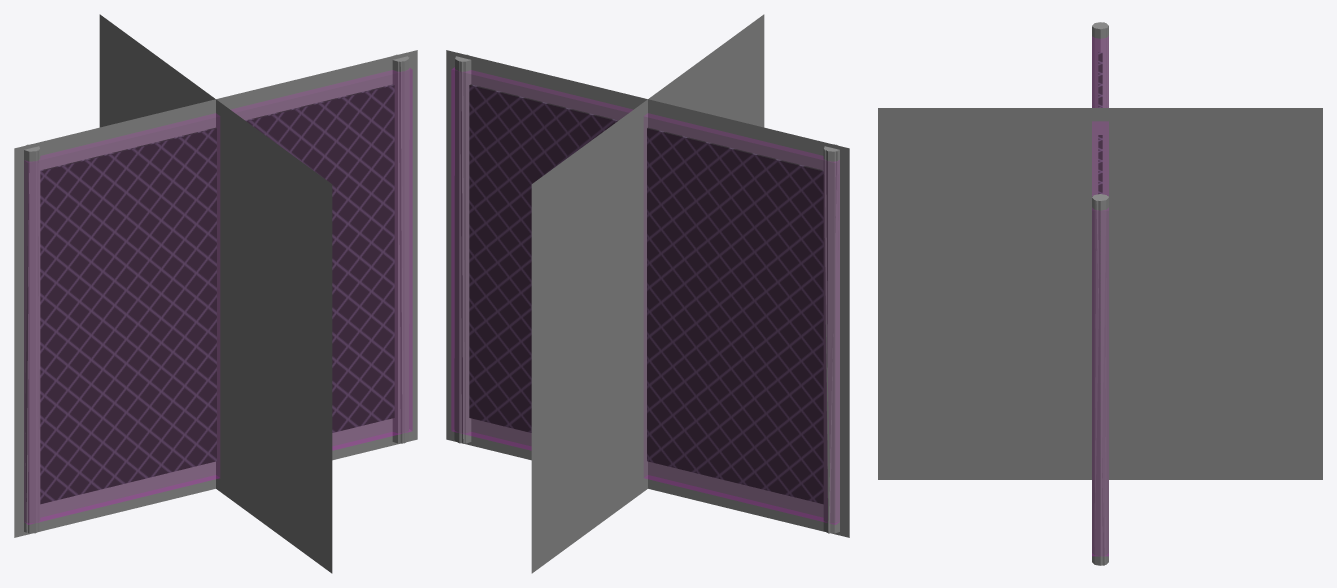
The model's file is chainlink_2m.dae.
3 renders of one model, left to right at view 1: azimuth 30°, elevation 25°; view 2: azimuth 150°, elevation 25°; view 3: azimuth 270°, elevation 25°, orthographic. The views are drawn at different scales.
Visible parts, largest first — view 1: chainlink_2m_a800, Colmesh_panel-1, chainlink_2m_a50, chainlink_2m_a200; view 2: chainlink_2m_a800, Colmesh_panel-1, chainlink_2m_a50, chainlink_2m_a200; view 3: chainlink_2m_a50, Colmesh_panel-1, chainlink_2m_a800, chainlink_2m_a200.
Part boxes in pixels (x1,y1,x2,y2): chainlink_2m_a800: (24, 54, 408, 533); Colmesh_panel-1: (24, 68, 412, 524); chainlink_2m_a50: (14, 14, 417, 573); chainlink_2m_a200: (25, 55, 409, 532); chainlink_2m_a800: (455, 54, 839, 533); Colmesh_panel-1: (451, 67, 839, 524); chainlink_2m_a50: (446, 14, 849, 573); chainlink_2m_a200: (454, 59, 838, 533); chainlink_2m_a50: (878, 108, 1322, 479); Colmesh_panel-1: (1092, 37, 1108, 555); chainlink_2m_a800: (1092, 22, 1108, 565); chainlink_2m_a200: (1092, 22, 1108, 565).
Size of the model in its own units: 2.1 by 2.1 by 1.94.
3 materials, 1 textured.
